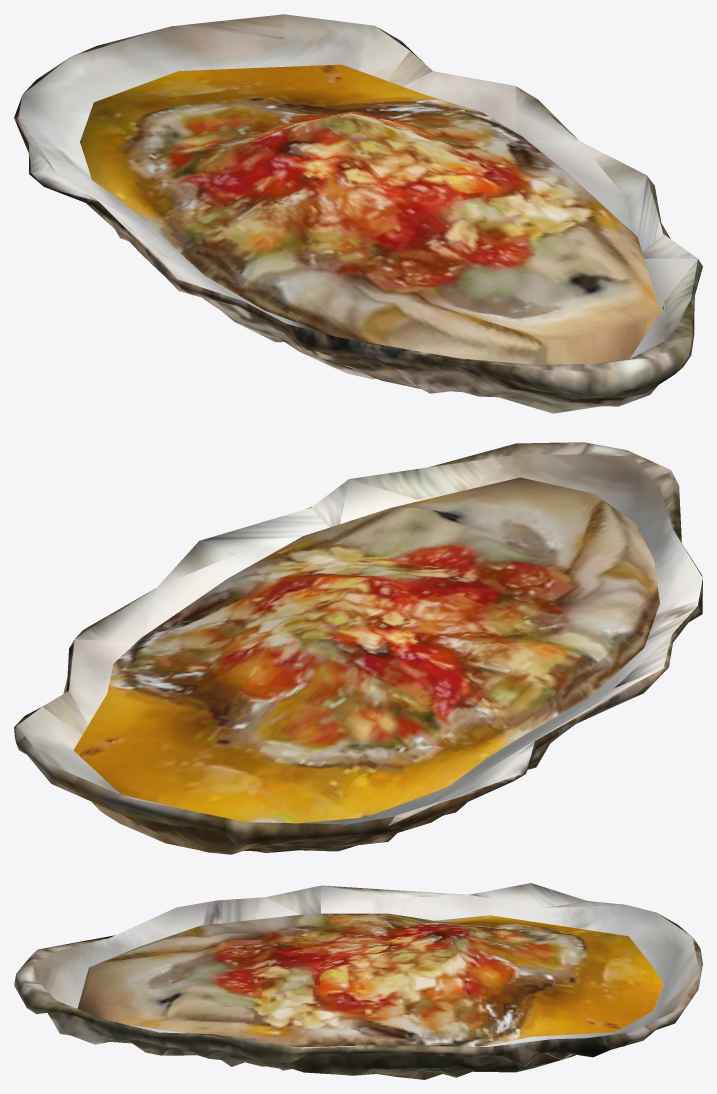
Rendered from ref_scallop.glb.
The picture shows the model from 3 angles, top to bottom: view 1: azimuth 30°, elevation 25°; view 2: azimuth 150°, elevation 25°; view 3: azimuth 270°, elevation 25°; orthographic projection. The views are drawn at different scales.
Parts seen in each view (by area): view 1: ref_scallop; view 2: ref_scallop; view 3: ref_scallop.
Boxes of the visible parts, x1=… form: ref_scallop: x1=14, y1=14, x2=702, y2=413; ref_scallop: x1=14, y1=442, x2=702, y2=854; ref_scallop: x1=14, y1=883, x2=702, y2=1079.
Size of the model in its own units: 0.5677 by 0.177 by 1.
Materials: 1 (1 with a texture image).
